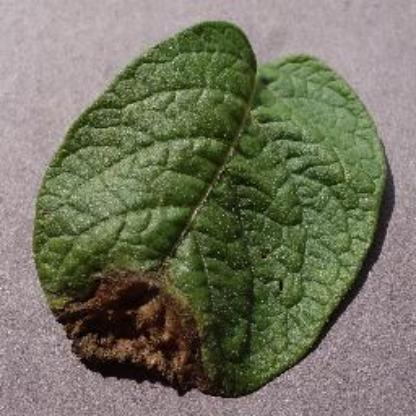Late-Blight: (22, 15, 396, 406)
